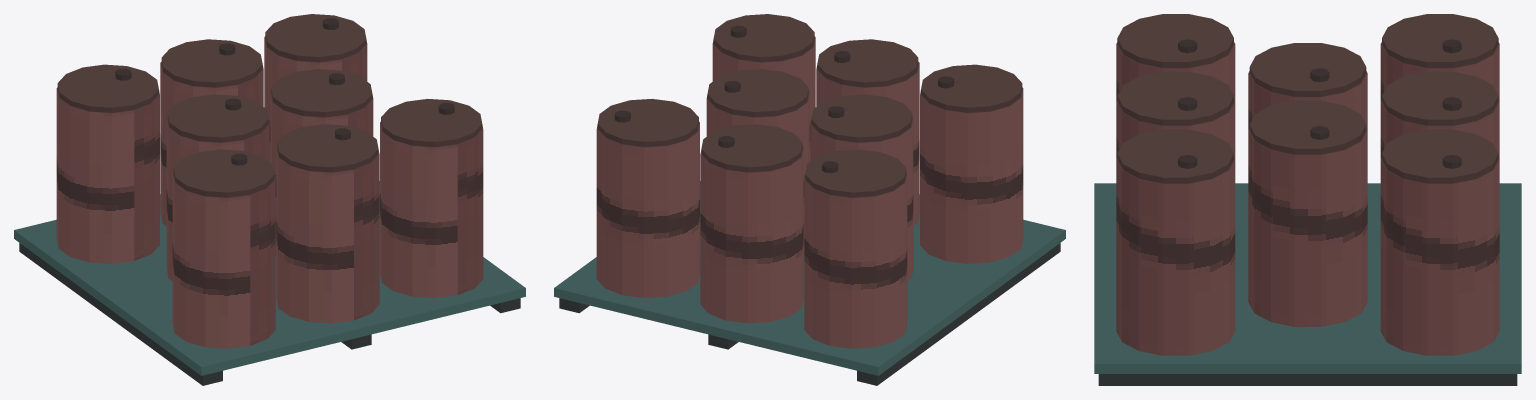
Rendered from Building_AncientChembarrelPallet.glb.
3 views of the same model, side by side, from view 1: azimuth 30°, elevation 25°; view 2: azimuth 150°, elevation 25°; view 3: azimuth 270°, elevation 25° (orthographic). The views are drawn at different scales.
Parts seen in each view (by area): view 1: AncientChembarrelPallet; view 2: AncientChembarrelPallet; view 3: AncientChembarrelPallet.
Part boxes in pixels (<box>): AncientChembarrelPallet: <box>14,14,525,385</box>; AncientChembarrelPallet: <box>554,14,1065,385</box>; AncientChembarrelPallet: <box>1094,14,1521,385</box>.
Bounding box in the file's own units: 1.94 × 1.04 × 1.94.
1 material, 1 textured.
